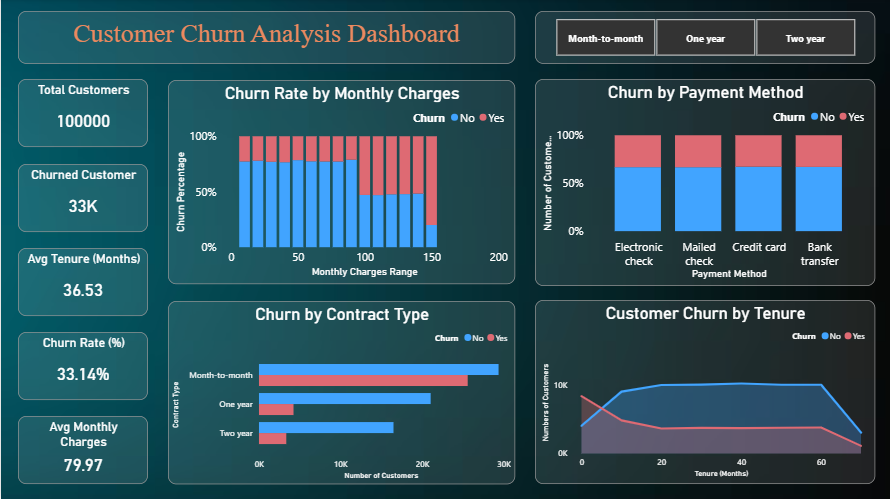

The dashboard page shown, as its layout file describes it:
{"tool":"powerbi","page":{"name":"Page 1","canvas":[1286,1000],"ordinal":0},"visuals":[{"type":"clusteredBarChart","title":"Churn by Contract Type","fields":{"Category":["cleaned_customer_churn_data.Contract"],"Series":["cleaned_customer_churn_data.Churn"],"Y":["CountNonNull(cleaned_customer_churn_data.Tenure)"]},"box":[56,592,556,346],"z":0},{"type":"lineChart","title":"Customer Churn by Tenure ","fields":{"Series":["cleaned_customer_churn_data.Churn"],"Y":["CountNonNull(cleaned_customer_churn_data.Churn)"],"Category":["cleaned_customer_churn_data.Tenure (bins)"]},"box":[676,592,560,346],"z":1000},{"type":"hundredPercentStackedColumnChart","title":"Churn Rate by Monthly Charges ","fields":{"Y":["CountNonNull(cleaned_customer_churn_data.Churn)"],"Series":["cleaned_customer_churn_data.Churn"],"Category":["cleaned_customer_churn_data.MonthlyCharges (bins)"]},"box":[52,216,560,340],"z":2000},{"type":"hundredPercentStackedColumnChart","title":"Churn by Payment Method","fields":{"Category":["cleaned_customer_churn_data.PaymentMethod"],"Y":["CountNonNull(cleaned_customer_churn_data.Churn)"],"Series":["cleaned_customer_churn_data.Churn"]},"box":[676,216,560,340],"z":3000},{"type":"textbox","box":[24.5,17.3,1234.1,64.8],"z":4000},{"type":"card","title":"Churned Customer","fields":{"Values":["CountNonNull(cleaned_customer_churn_data.Churn)"]},"box":[238,100,154,84],"z":5000},{"type":"card","title":"Churn Rate (%)","fields":{"Values":["cleaned_customer_churn_data.Churn Rate"]},"box":[598,100,154,84],"z":6000},{"type":"card","title":"Total Customers","fields":{"Values":["cleaned_customer_churn_data.Total Customers"]},"box":[52,100,158,84],"z":7000},{"type":"card","title":"Avg Monthly Charges","fields":{"Values":["Avg(cleaned_customer_churn_data.MonthlyCharges)"]},"box":[778,100,154,84],"z":8000},{"type":"card","title":"Avg Tenure (Months)","fields":{"Values":["Avg(cleaned_customer_churn_data.Tenure)"]},"box":[418,100,154,84],"z":9000},{"type":"slicer","fields":{"Values":["cleaned_customer_churn_data.Contract"]},"box":[1010,100,226,84],"z":10000}]}

Visuals, with their boxes on the page's 1286x1000 design canvas (x1, y1, x2, y2). These are canvas units, not pixel positions in the 890x499 screenshot, which may show the page scaled, cropped or inside an application window:
"Churn by Contract Type" clusteredBarChart: [56,592,612,938]
"Customer Churn by Tenure " lineChart: [676,592,1236,938]
"Churn Rate by Monthly Charges " hundredPercentStackedColumnChart: [52,216,612,556]
"Churn by Payment Method" hundredPercentStackedColumnChart: [676,216,1236,556]
textbox: [24,17,1259,82]
"Churned Customer" card: [238,100,392,184]
"Churn Rate (%)" card: [598,100,752,184]
"Total Customers" card: [52,100,210,184]
"Avg Monthly Charges" card: [778,100,932,184]
"Avg Tenure (Months)" card: [418,100,572,184]
slicer - cleaned_customer_churn_data.Contract: [1010,100,1236,184]
